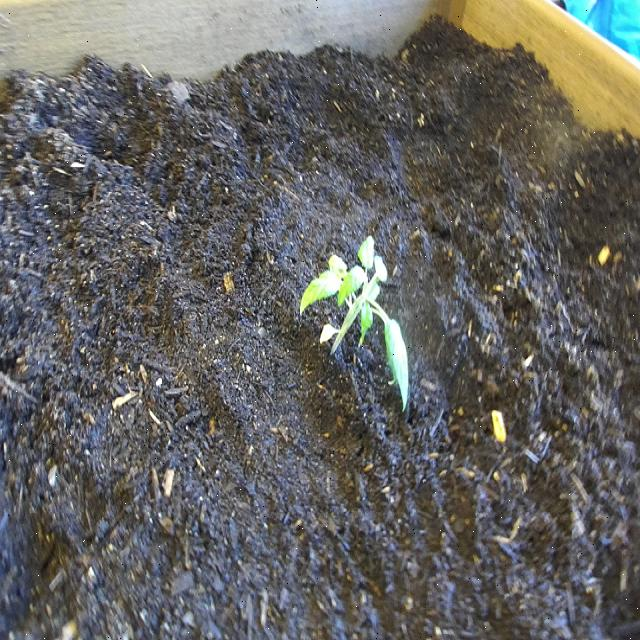Healthy: (296, 231, 416, 419)
